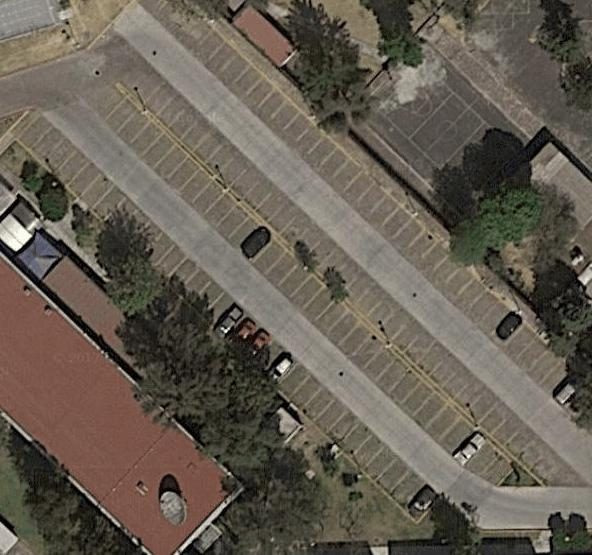parkingspot: (125, 64, 566, 485), (15, 111, 445, 525), (99, 95, 518, 490), (172, 14, 576, 419), (464, 0, 530, 32)
